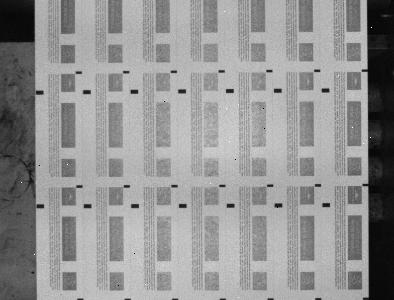backgroundclutter: (31, 271, 35, 274)
qblock: (130, 89, 139, 94), (179, 203, 187, 208), (274, 88, 282, 93), (36, 204, 44, 209), (322, 203, 331, 207), (275, 203, 283, 207), (131, 204, 139, 208), (84, 204, 92, 208), (227, 203, 235, 207), (178, 89, 186, 93), (226, 89, 234, 93), (83, 90, 91, 94), (322, 88, 330, 92), (36, 90, 43, 94)
smallqblock: (123, 71, 130, 74), (171, 184, 178, 187), (218, 70, 225, 73), (219, 184, 226, 187), (267, 184, 274, 187), (76, 185, 83, 188), (362, 69, 369, 72), (76, 71, 82, 74), (171, 70, 177, 73), (124, 184, 130, 187), (267, 69, 273, 72), (315, 69, 321, 72), (363, 183, 369, 186), (315, 184, 321, 186)
